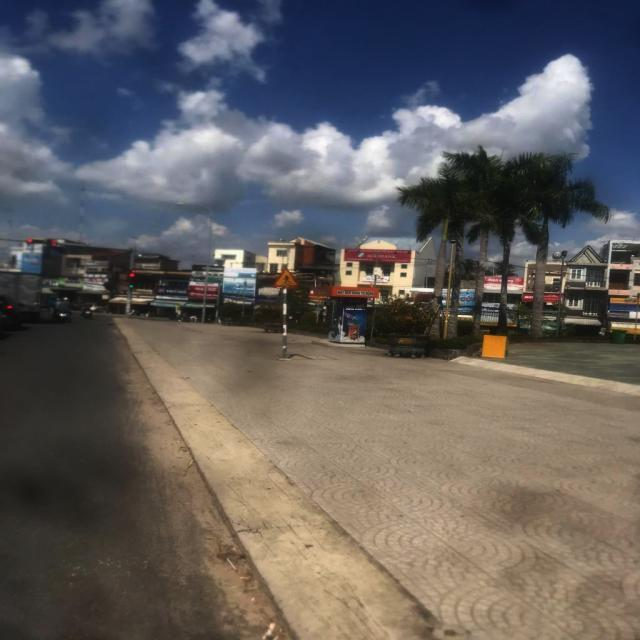224-duong-nguoi-di-bo-cat-ngang: (273, 268, 299, 288)
